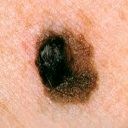Melanoma: (33, 32, 95, 101)
